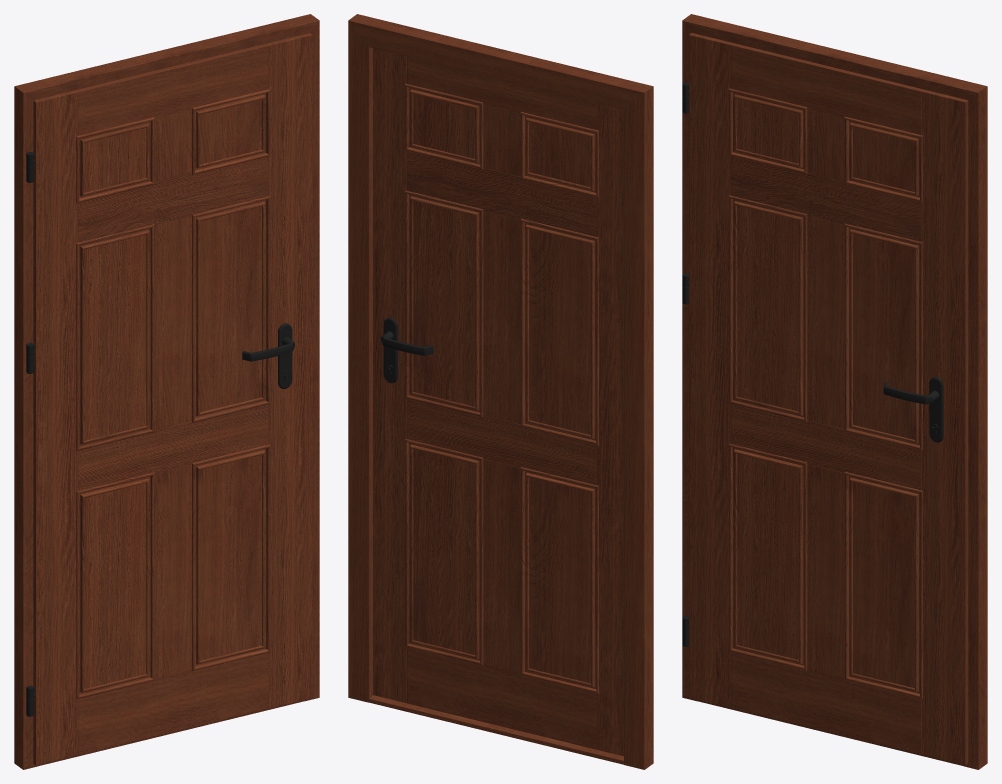
File: theDoor.FBX
3 renders of one model, left to right at view 1: azimuth 30°, elevation 25°; view 2: azimuth 150°, elevation 25°; view 3: azimuth 330°, elevation 25°, orthographic.
Visible parts, largest first — view 1: AM109_049_01, AM109_049_00; view 2: AM109_049_01, AM109_049_00; view 3: AM109_049_01, AM109_049_00.
Boxes of the visible parts, <box> form: AM109_049_01: <box>26,33,312,765</box>; AM109_049_00: <box>14,14,319,769</box>; AM109_049_01: <box>373,48,623,756</box>; AM109_049_00: <box>348,14,653,769</box>; AM109_049_01: <box>682,33,968,765</box>; AM109_049_00: <box>682,14,987,769</box>.
Bounding box in the file's own units: 94.1 × 16.12 × 206.
Materials: 3 (1 with a texture image).
